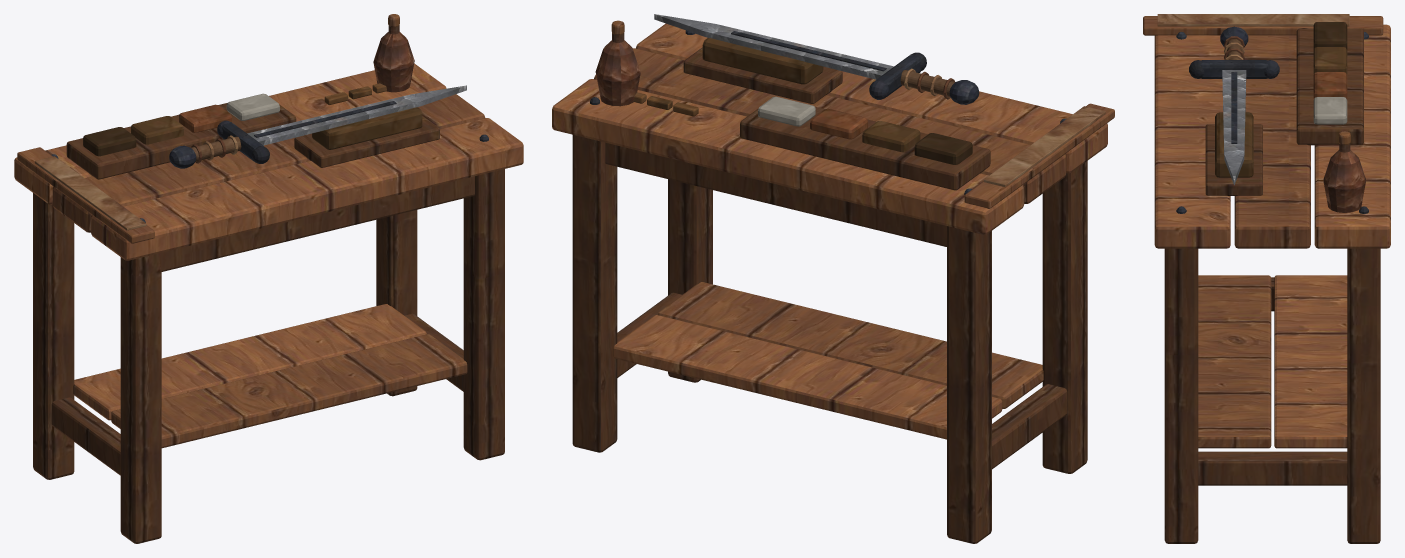
Rendered from ef_whetstone_table.glb.
The picture shows the model from 3 angles, left to right: view 1: azimuth 30°, elevation 25°; view 2: azimuth 150°, elevation 25°; view 3: azimuth 270°, elevation 25°; orthographic projection. The views are drawn at different scales.
Visible parts, largest first — view 1: model; view 2: model; view 3: model.
Part boxes in pixels (x1,y1,x2,y2): model: (14,14,523,543); model: (552,14,1114,543); model: (1143,14,1390,543).
Size of the model in its own units: 1 by 0.9175 by 0.516.
14 materials, 14 textured.
